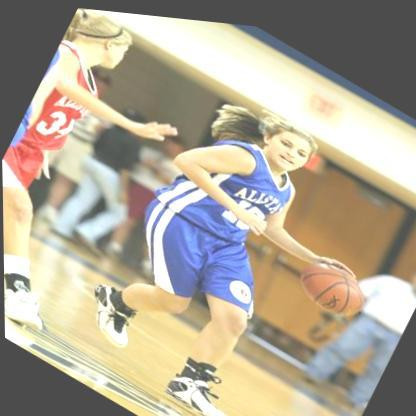basketball: (289, 240, 373, 324)
